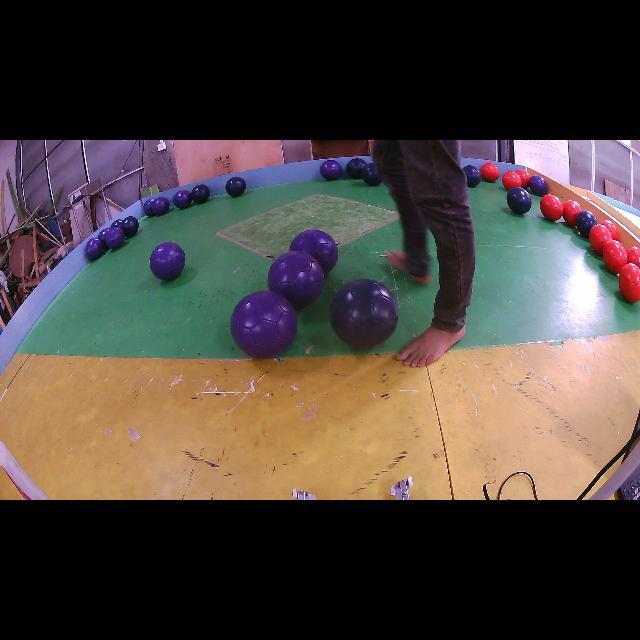B: (330, 279, 399, 349), (506, 186, 531, 215), (576, 210, 598, 238), (361, 162, 381, 186), (225, 176, 246, 198), (462, 165, 481, 188), (346, 159, 366, 179), (121, 216, 139, 238), (191, 184, 210, 204), (110, 219, 122, 227)
P: (230, 291, 298, 359), (268, 250, 324, 309), (289, 230, 339, 275), (150, 242, 185, 280), (105, 226, 125, 249), (320, 160, 341, 181), (85, 238, 104, 260), (529, 175, 548, 196), (172, 190, 191, 209), (152, 196, 170, 216), (98, 229, 110, 249), (142, 199, 155, 216)
R: (602, 240, 628, 274), (619, 262, 640, 302), (589, 224, 612, 255), (540, 194, 564, 221), (562, 200, 581, 226), (480, 162, 500, 182), (501, 171, 522, 190), (600, 220, 619, 239), (626, 246, 640, 266), (516, 169, 530, 189)
